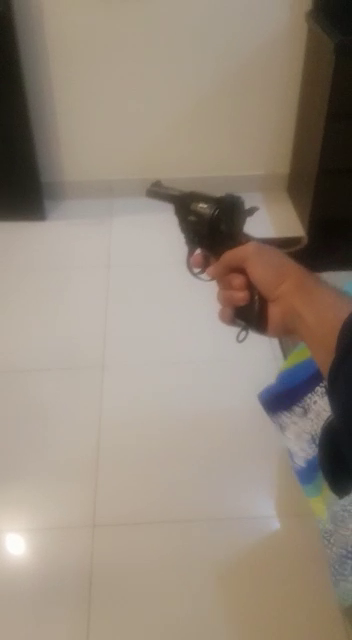handgun: (132, 172, 288, 388)
